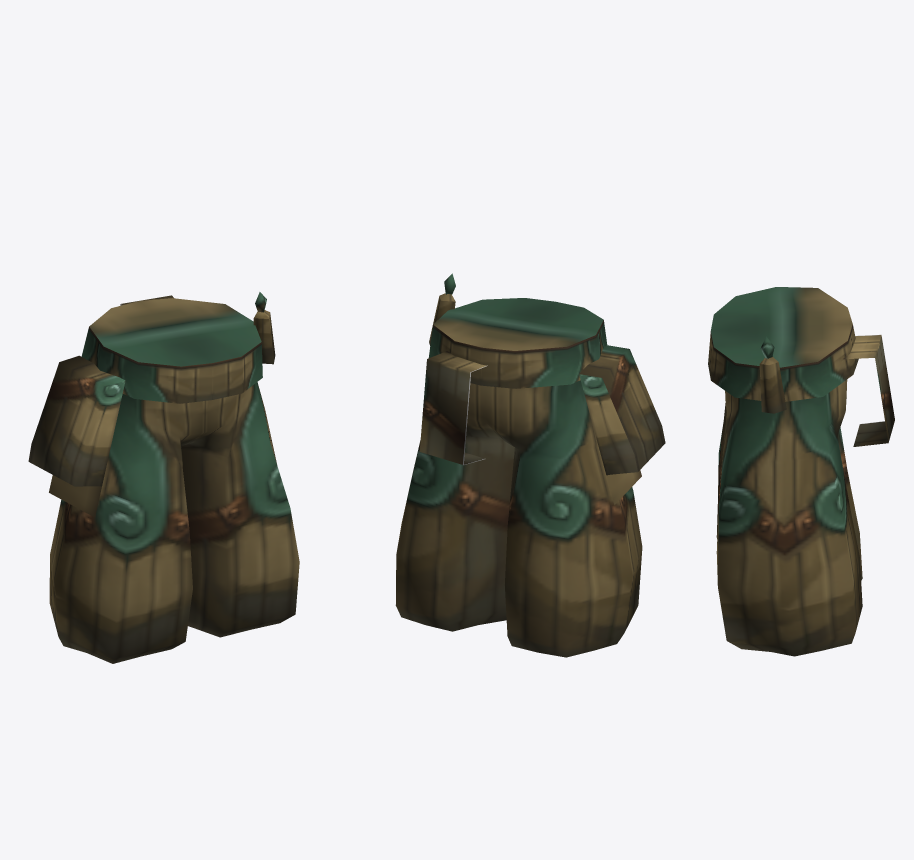
Rendered from hum_medium_d_fa0e6312.glb.
3 views of the same model, side by side, from view 1: azimuth 30°, elevation 25°; view 2: azimuth 150°, elevation 25°; view 3: azimuth 270°, elevation 25° (orthographic). The views are drawn at different scales.
Size of the model in its own units: 0.9362 by 2.33 by 0.5413.
Materials: 1 (1 with a texture image).
